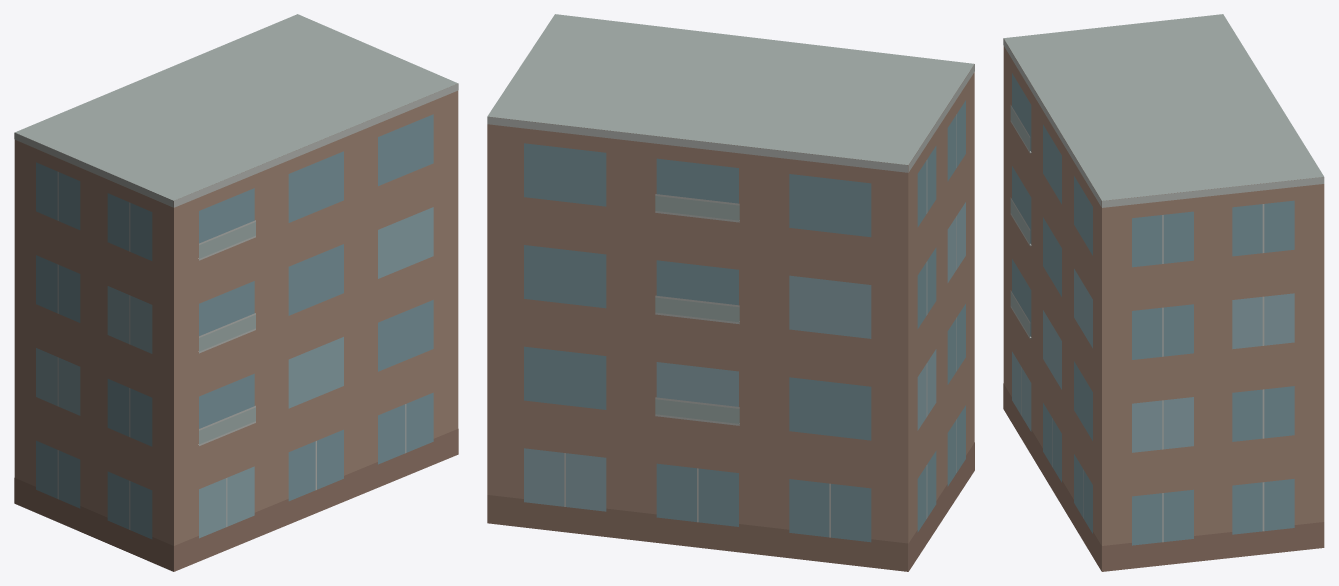
Rendered from survey-upis-32715355.glb.
3 views of the same model, side by side, from view 1: azimuth 30°, elevation 25°; view 2: azimuth 150°, elevation 25°; view 3: azimuth 270°, elevation 25° (orthographic). The views are drawn at different scales.
Parts seen in each view (by area): view 1: survey-upis-32715355.tmp; view 2: survey-upis-32715355.tmp; view 3: survey-upis-32715355.tmp.
Part boxes in pixels (x1,y1,x2,y2): survey-upis-32715355.tmp: (14, 14, 458, 571); survey-upis-32715355.tmp: (487, 14, 974, 571); survey-upis-32715355.tmp: (1003, 14, 1324, 571).
Size of the model in its own units: 13.93 by 12.88 by 10.11.
